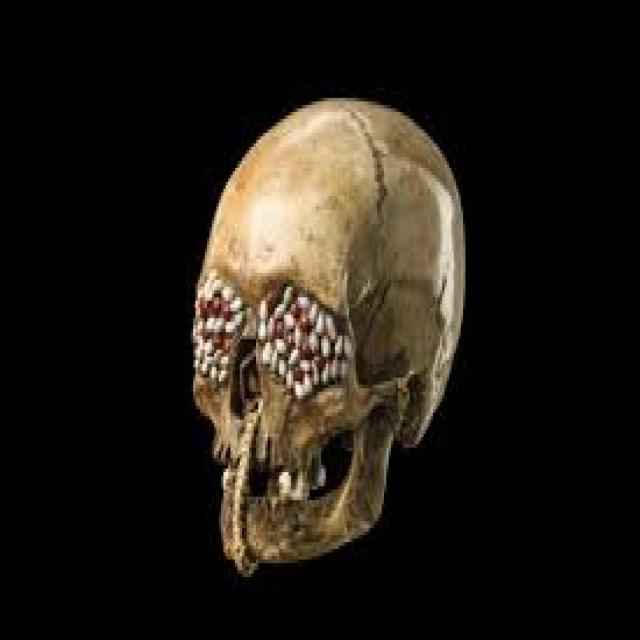skull: (172, 85, 486, 589)
